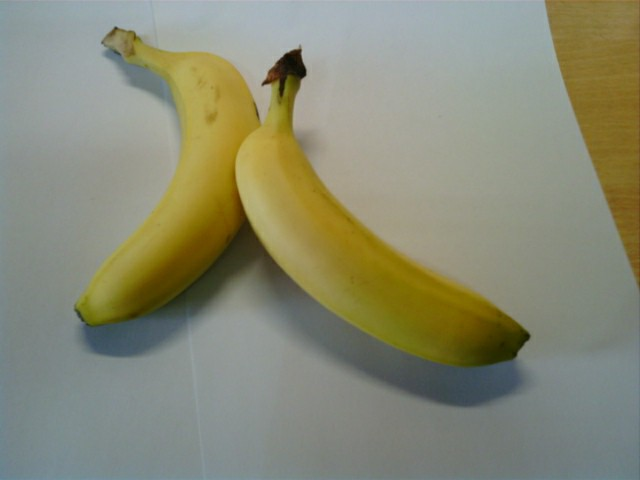fresh_banana: (233, 113, 532, 368), (74, 40, 260, 328)
